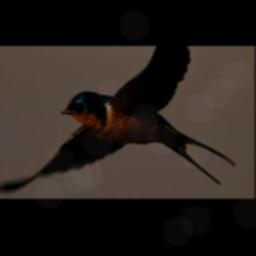Swallow: (0, 46, 235, 199)
